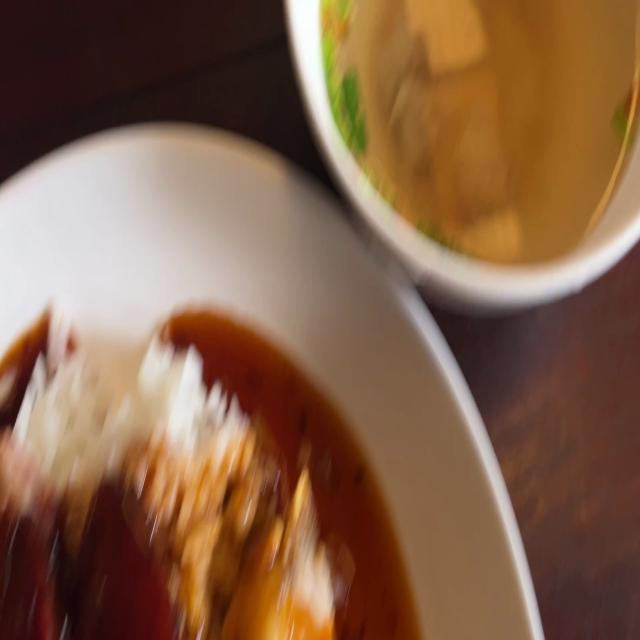01chainese_sausage: (26, 480, 156, 640)
01crispy_pork: (228, 460, 333, 640)
01red_pork_and_crispy_pork: (0, 320, 347, 640)
01rice: (10, 306, 246, 486)
